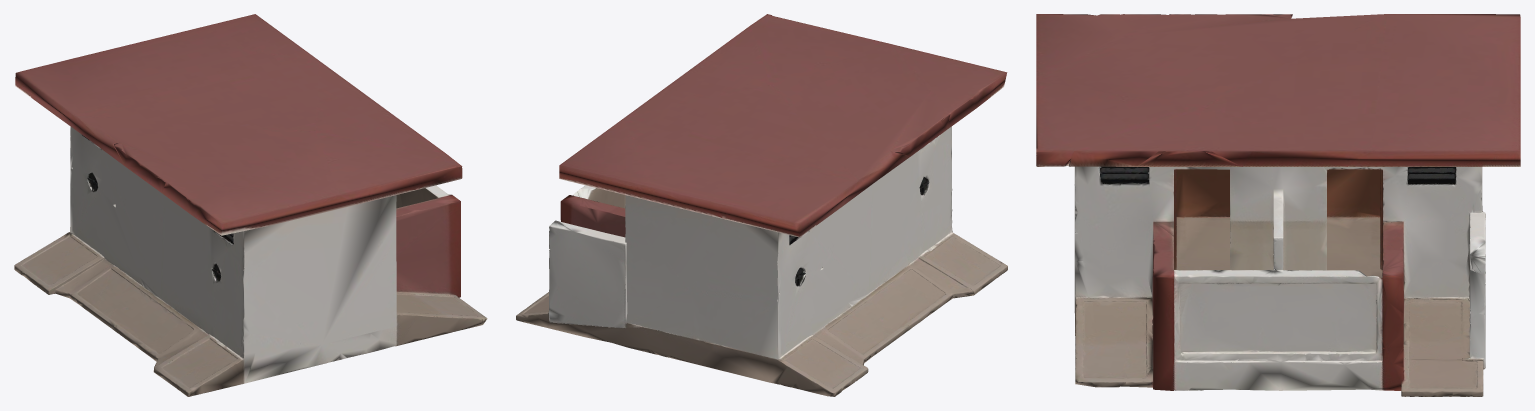
The model's file is SchoolWashrooms.glb.
The picture shows the model from 3 angles, left to right: view 1: azimuth 30°, elevation 25°; view 2: azimuth 150°, elevation 25°; view 3: azimuth 270°, elevation 25°; orthographic projection. The views are drawn at different scales.
Visible parts, largest first — view 1: tripo_node_5b625a70-4643-471d-8b39-aa66fbccef52; view 2: tripo_node_5b625a70-4643-471d-8b39-aa66fbccef52; view 3: tripo_node_5b625a70-4643-471d-8b39-aa66fbccef52.
Part boxes in pixels (box(x1,y1,x2,y2)): tripo_node_5b625a70-4643-471d-8b39-aa66fbccef52: box(14, 14, 487, 396); tripo_node_5b625a70-4643-471d-8b39-aa66fbccef52: box(516, 14, 1007, 396); tripo_node_5b625a70-4643-471d-8b39-aa66fbccef52: box(1036, 14, 1520, 396).
Bounding box in the file's own units: 0.8676 × 0.4731 × 0.9793.
Materials: 1 (1 with a texture image).
